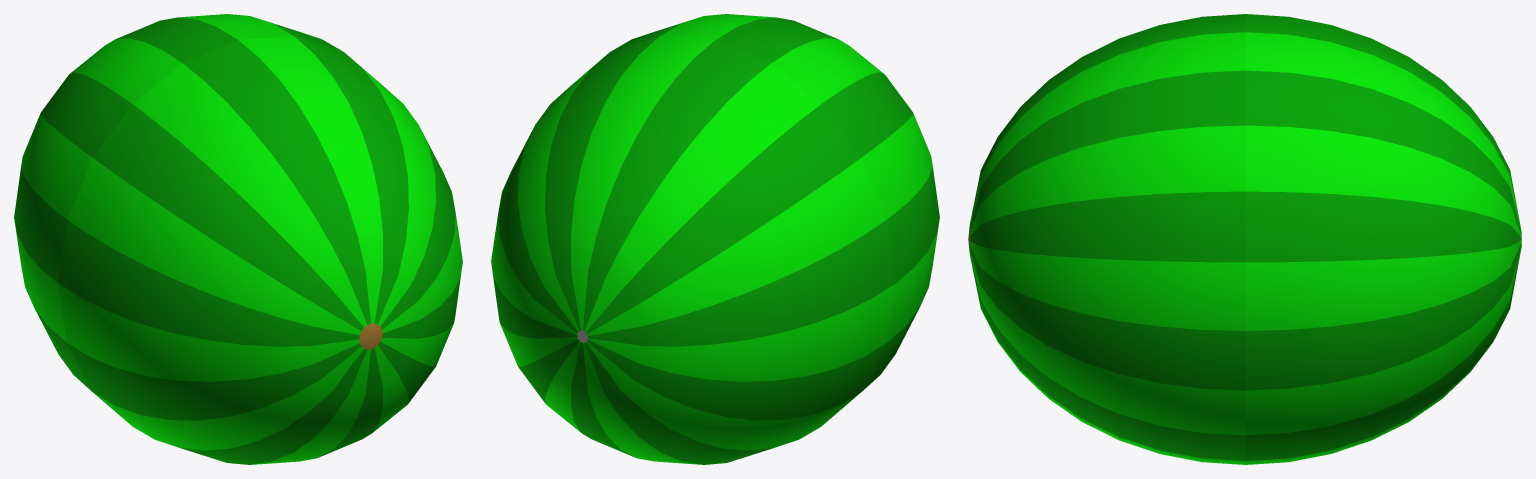
File: watermelon.fbx
The picture shows the model from 3 angles, left to right: view 1: azimuth 30°, elevation 25°; view 2: azimuth 150°, elevation 25°; view 3: azimuth 270°, elevation 25°; orthographic projection. The views are drawn at different scales.
Visible parts, largest first — view 1: polySurface4; view 2: polySurface4; view 3: polySurface4.
Boxes of the visible parts, x1,y1,x2,y2 form: polySurface4: [14, 14, 462, 464]; polySurface4: [491, 14, 939, 464]; polySurface4: [968, 14, 1521, 464].
Size of the model in its own units: 2 by 2.11 by 2.56.
